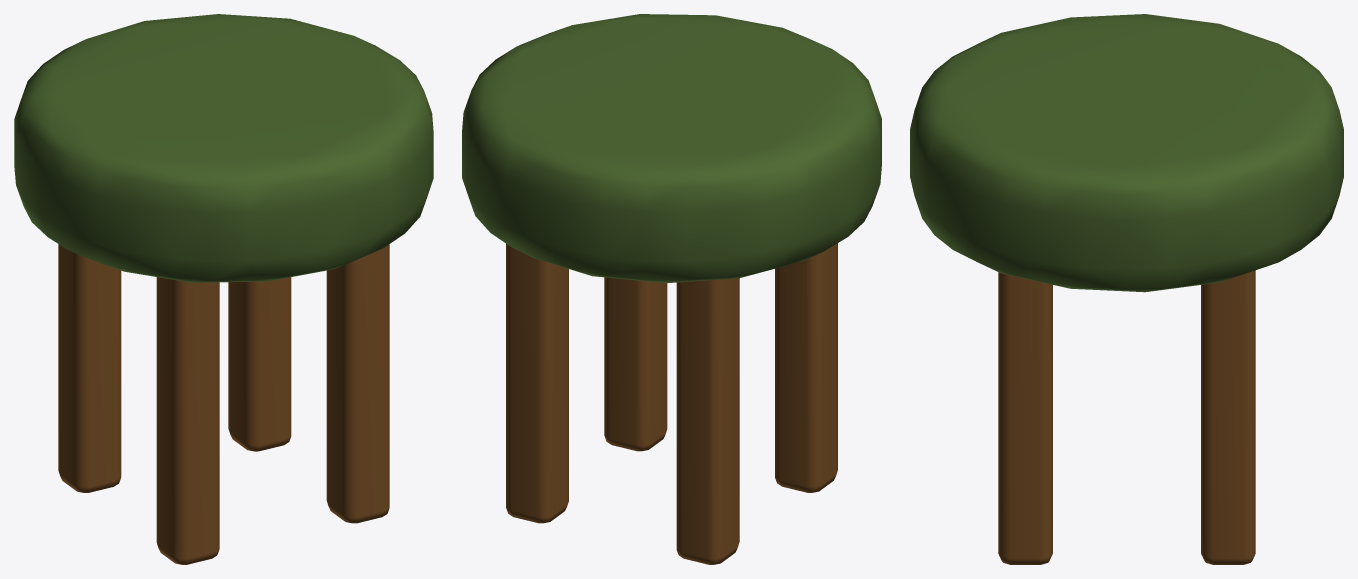
Rendered from stool_07_green.fbx.
3 views of the same model, side by side, from view 1: azimuth 30°, elevation 25°; view 2: azimuth 150°, elevation 25°; view 3: azimuth 270°, elevation 25° (orthographic). The views are drawn at different scales.
Visible parts, largest first — view 1: stool_07_green; view 2: stool_07_green; view 3: stool_07_green.
Boxes of the visible parts, x1=… form: stool_07_green: x1=14, y1=14, x2=433, y2=564; stool_07_green: x1=462, y1=14, x2=881, y2=564; stool_07_green: x1=910, y1=14, x2=1343, y2=564.
Size of the model in its own units: 41.86 by 45 by 41.86.
1 material, 1 textured.
